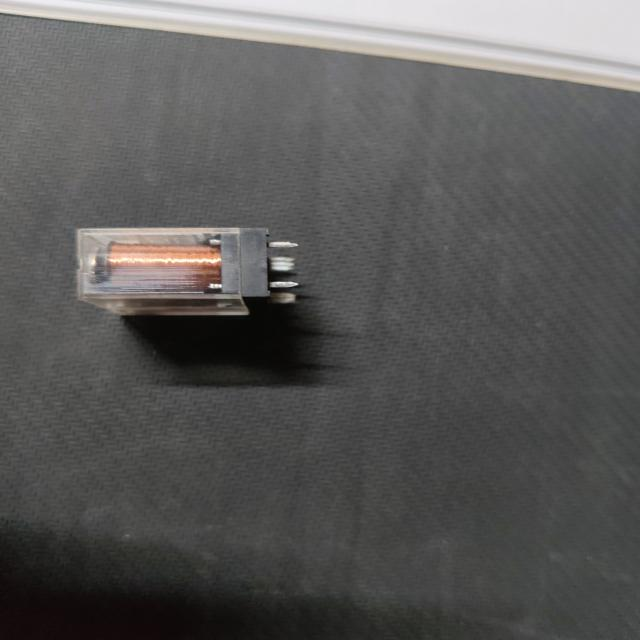relay: (67, 214, 306, 326)
